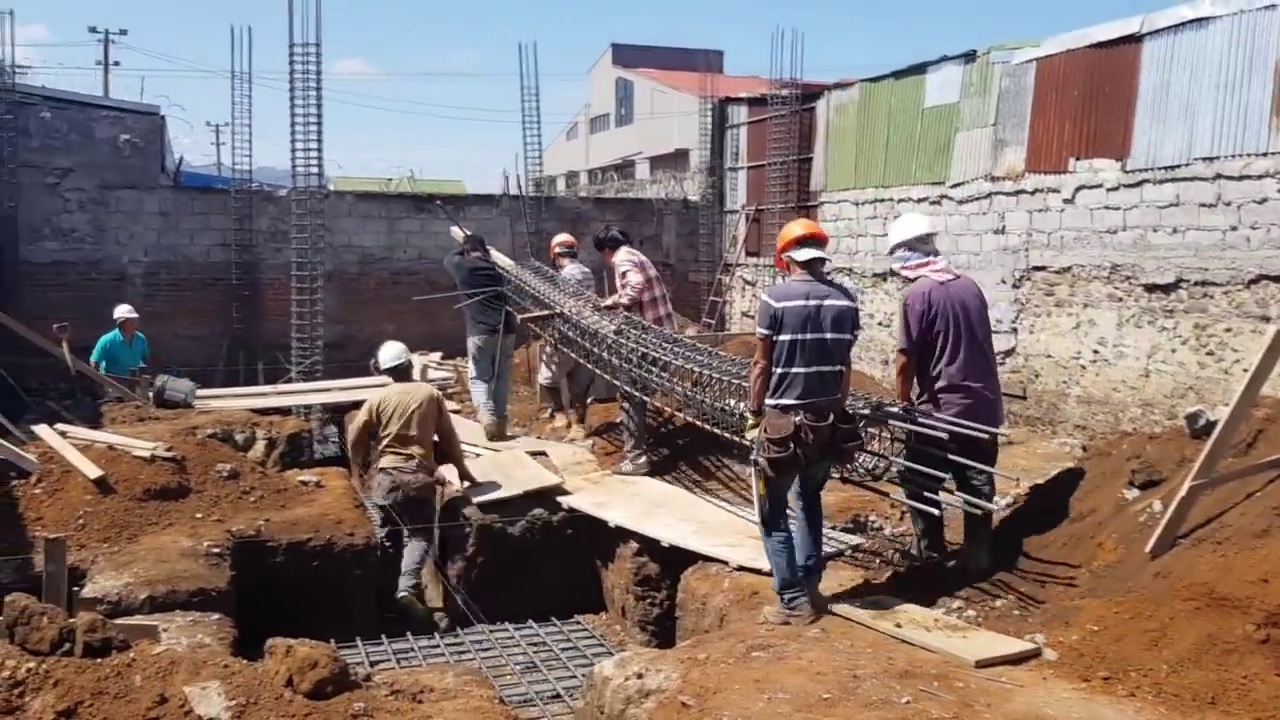helmet: (775, 217, 828, 269), (883, 211, 937, 258), (375, 343, 410, 378), (549, 232, 579, 259), (112, 307, 139, 323)
helmet-off: (593, 227, 632, 267), (460, 233, 492, 265)
helmet-on: (882, 211, 952, 280), (776, 217, 827, 281), (374, 343, 417, 388), (548, 232, 579, 271), (112, 307, 140, 337)
person: (747, 217, 863, 622), (882, 212, 1003, 584), (343, 339, 479, 612), (592, 226, 686, 481), (444, 235, 522, 439), (537, 232, 604, 446), (91, 306, 152, 381)
